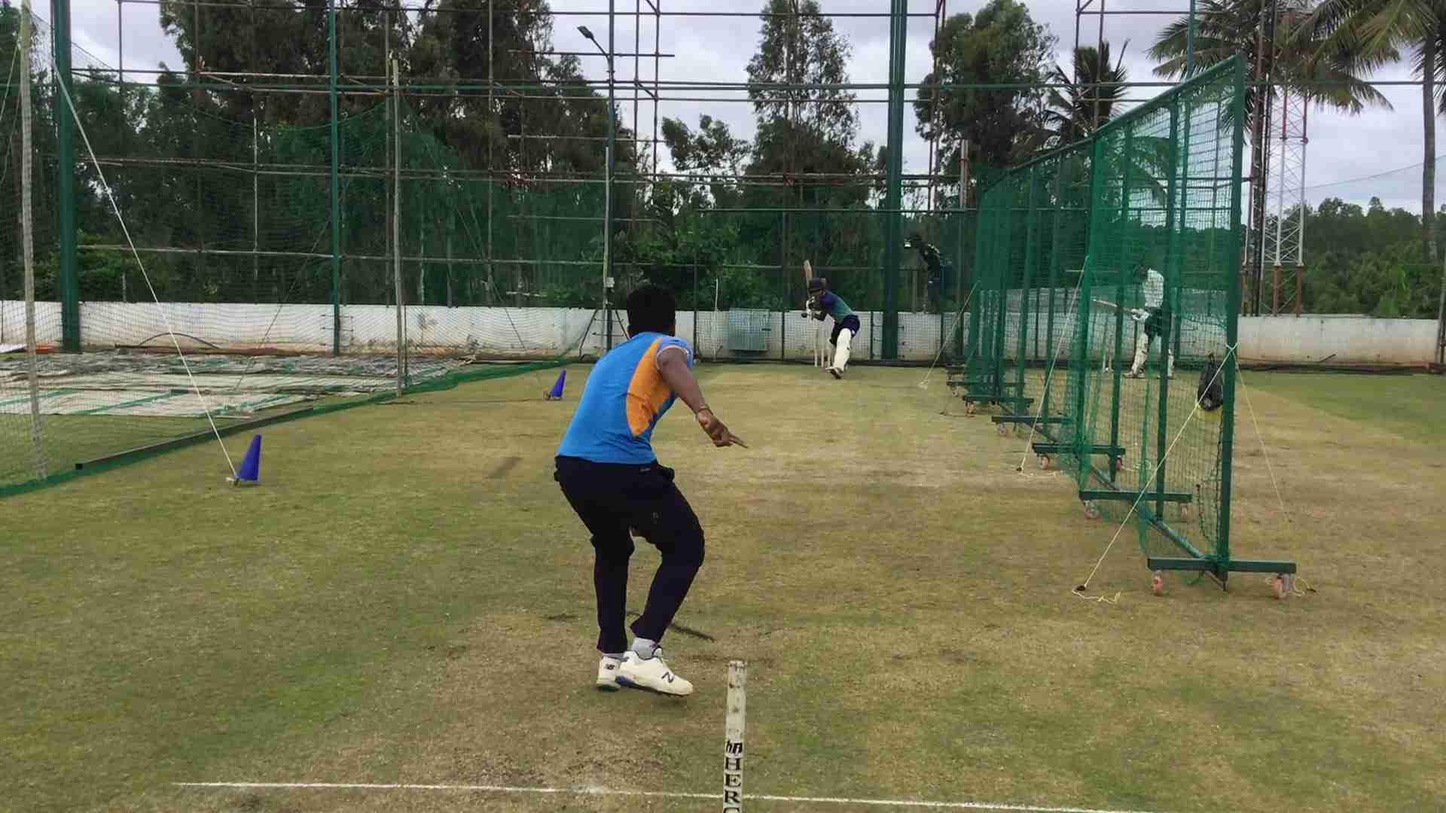batsman: (805, 271, 865, 382)
